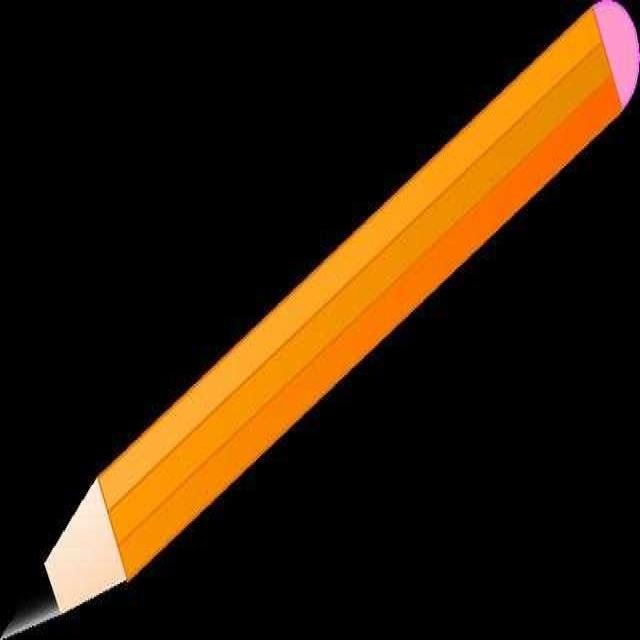pencil: (0, 2, 639, 638)
